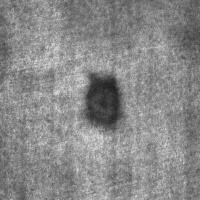patches: (64, 0, 138, 48), (85, 73, 120, 127)
